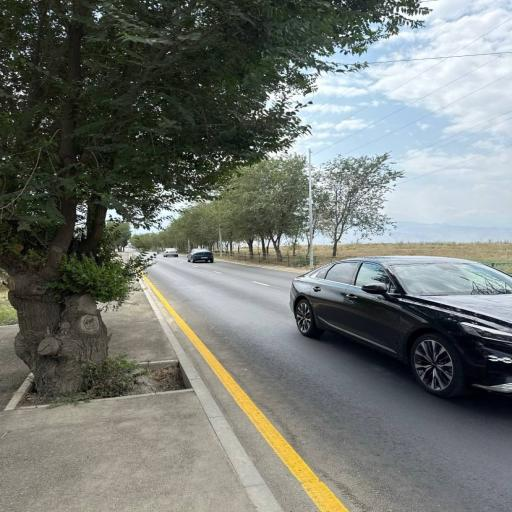book: (290, 256, 512, 397), (187, 248, 214, 263), (163, 248, 179, 257)
glass_wall: (148, 256, 512, 512), (0, 290, 256, 512)
